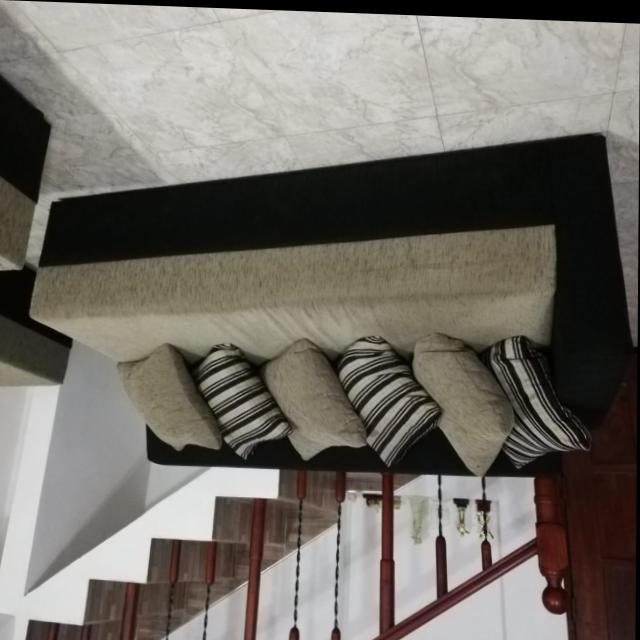Sofa: (34, 116, 630, 478)
